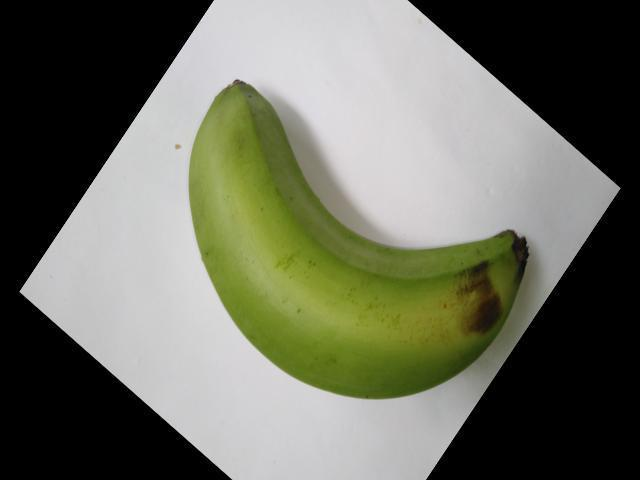freshunripe: (156, 59, 535, 409)
